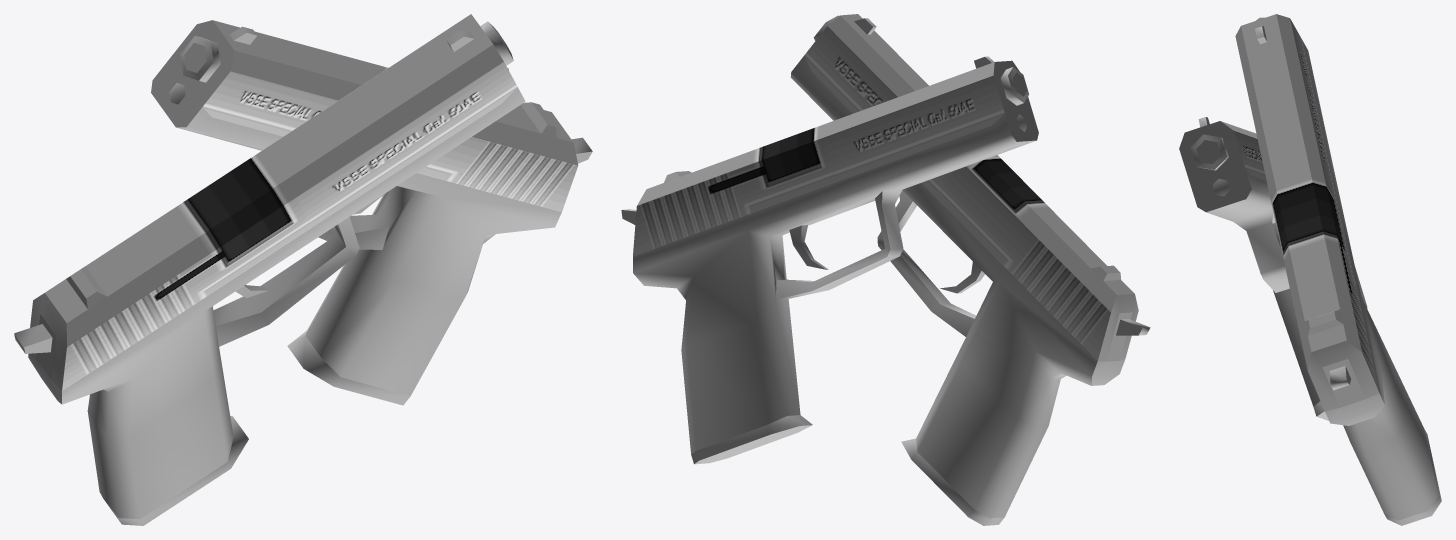
Rendered from timecrisis2.ico.obj.
3 renders of one model, left to right at view 1: azimuth 30°, elevation 25°; view 2: azimuth 150°, elevation 25°; view 3: azimuth 270°, elevation 25°, orthographic. The views are drawn at different scales.
Bounding box in the file's own units: 4.69 × 3.89 × 2.19.
1 material, 1 textured.
